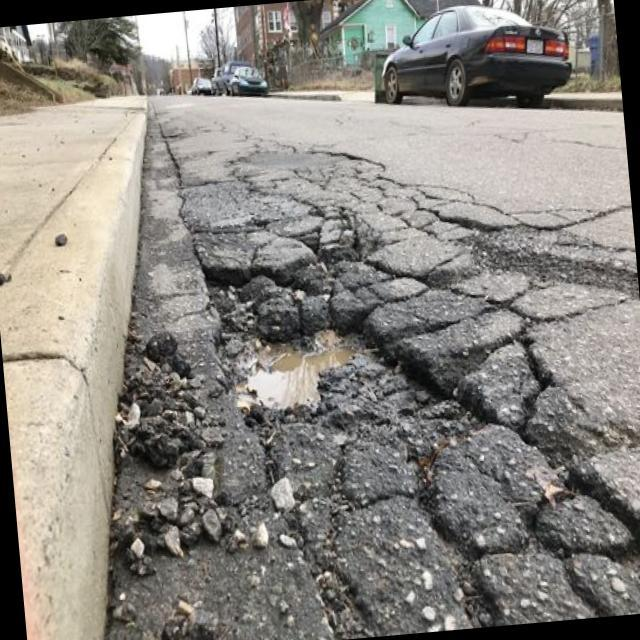Pothole: (215, 293, 394, 432)
